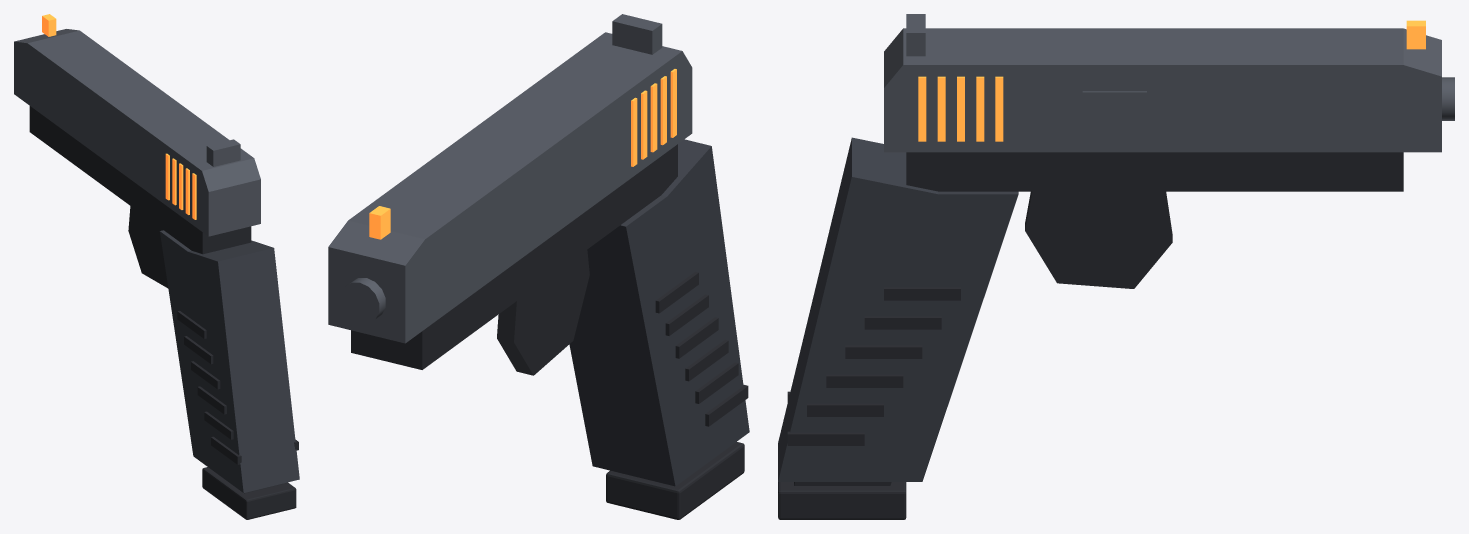
The model's file is pistol.glb.
The picture shows the model from 3 angles, left to right: view 1: azimuth 30°, elevation 25°; view 2: azimuth 150°, elevation 25°; view 3: azimuth 270°, elevation 25°; orthographic projection. The views are drawn at different scales.
Parts seen in each view (by area): view 1: body, slide, mag; view 2: body, slide, mag; view 3: body, slide, mag.
Boxes of the visible parts, box(x1,y1,x2,y2) form: body: box(29, 106, 299, 492); slide: box(14, 14, 260, 236); mag: box(202, 467, 296, 519); body: box(341, 139, 749, 486); slide: box(328, 14, 692, 343); mag: box(606, 442, 744, 519); body: box(778, 77, 1454, 481); slide: box(884, 14, 1441, 152); mag: box(778, 482, 906, 519).
Size of the model in its own units: 0.0316 by 0.165 by 0.211.
